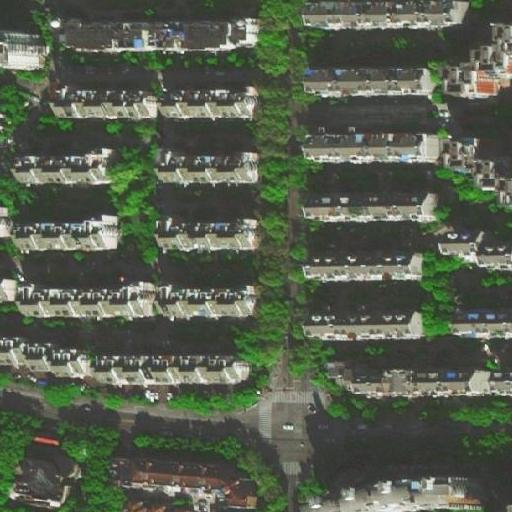building: (58, 15, 258, 50), (131, 460, 263, 505), (305, 479, 486, 511), (445, 21, 511, 99), (445, 137, 511, 206), (349, 368, 490, 399), (101, 356, 245, 385), (20, 283, 153, 313), (310, 133, 437, 162), (311, 68, 435, 97), (311, 196, 441, 222), (311, 310, 424, 338), (3, 344, 90, 380), (305, 253, 424, 279), (24, 152, 121, 183), (162, 217, 262, 247), (55, 86, 154, 116), (161, 151, 259, 181), (280, 178, 301, 314), (166, 85, 260, 115), (160, 286, 257, 314), (14, 455, 69, 504), (19, 220, 118, 247), (310, 100, 427, 121), (0, 29, 48, 71), (450, 237, 512, 266), (450, 315, 512, 339), (314, 364, 353, 397), (120, 497, 199, 512), (104, 458, 133, 491), (491, 370, 511, 398), (0, 274, 19, 300)
